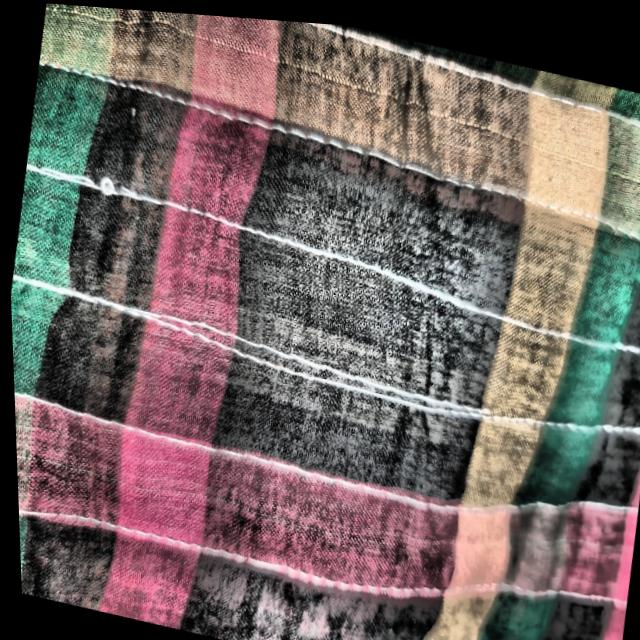Stitch: (102, 289, 499, 443), (18, 147, 149, 232)
